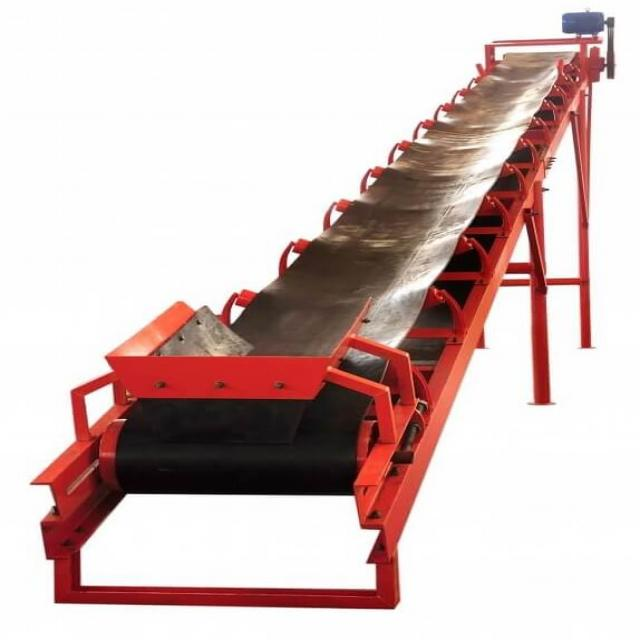broyeur: (33, 11, 620, 613)
